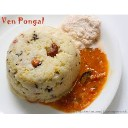venpongal: (8, 28, 80, 100)
